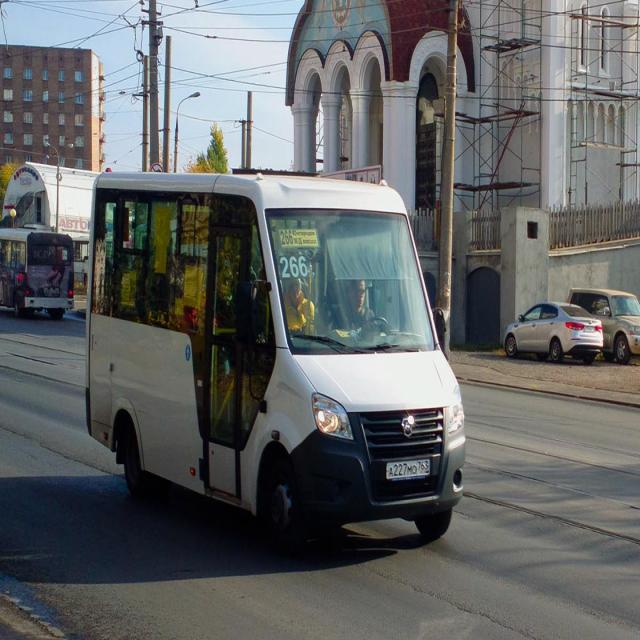number-of-bus: (281, 255, 309, 281), (280, 230, 295, 248)
